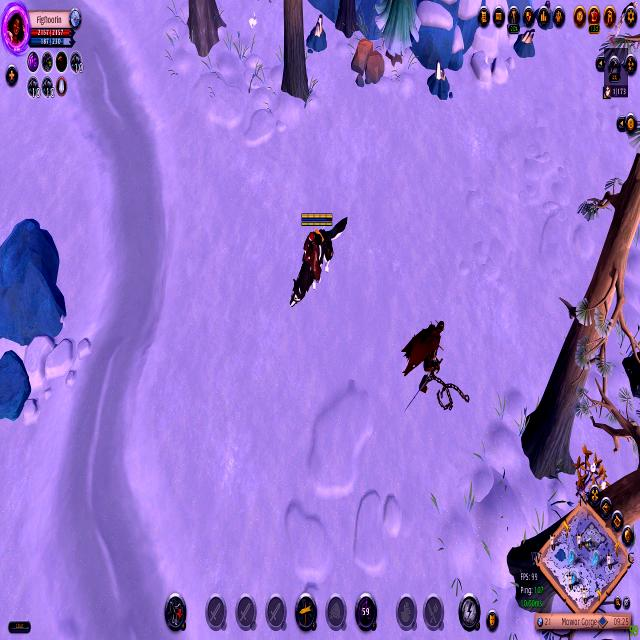hide: (574, 436, 612, 506)
ore: (399, 311, 448, 420), (603, 0, 640, 49)
player: (304, 8, 332, 58), (426, 56, 454, 104), (513, 23, 539, 65), (532, 0, 558, 33)
red: (286, 201, 352, 317)
tree: (345, 34, 389, 92)
